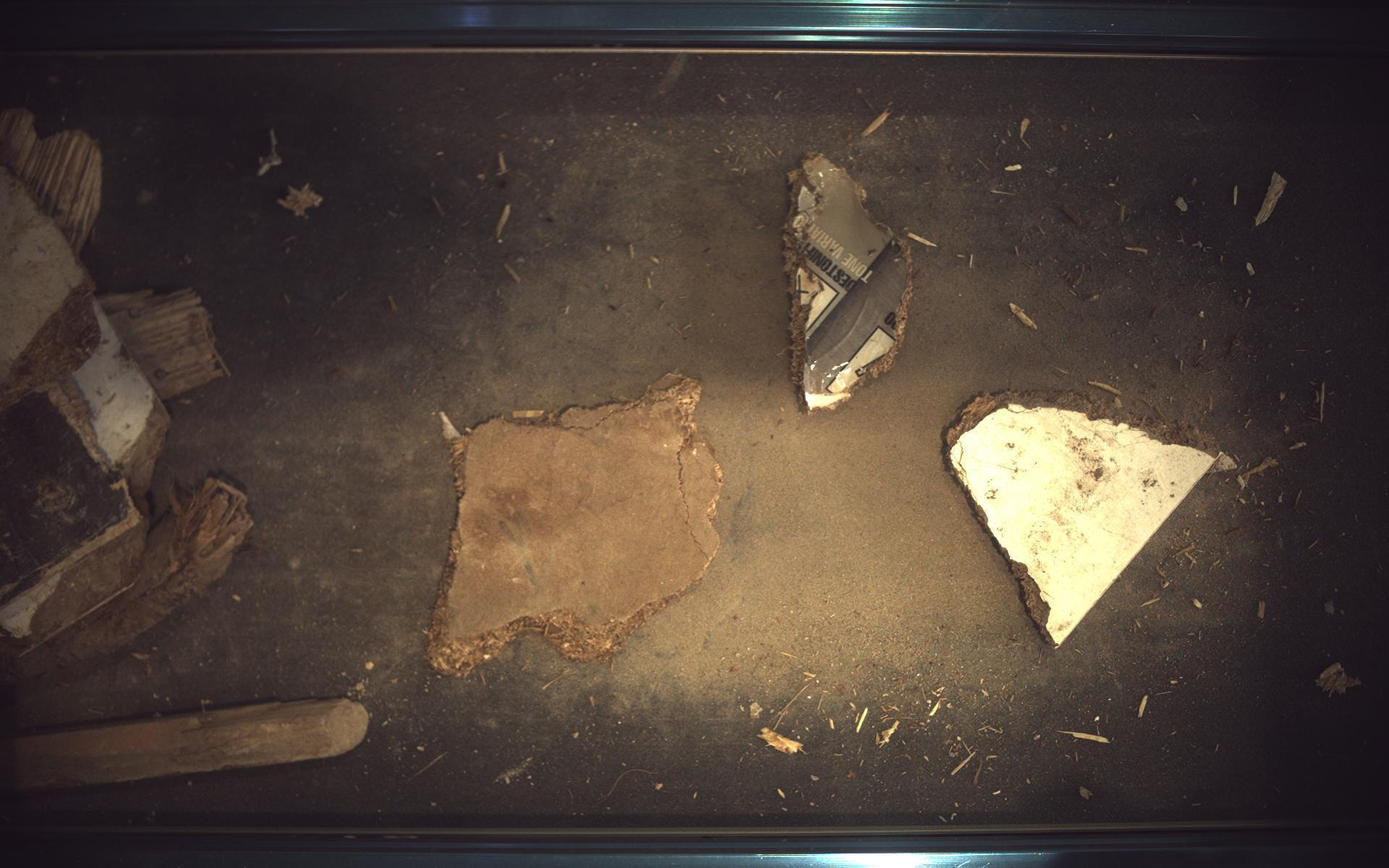wood: (427, 374, 723, 676), (948, 391, 1238, 647), (785, 153, 914, 410)
